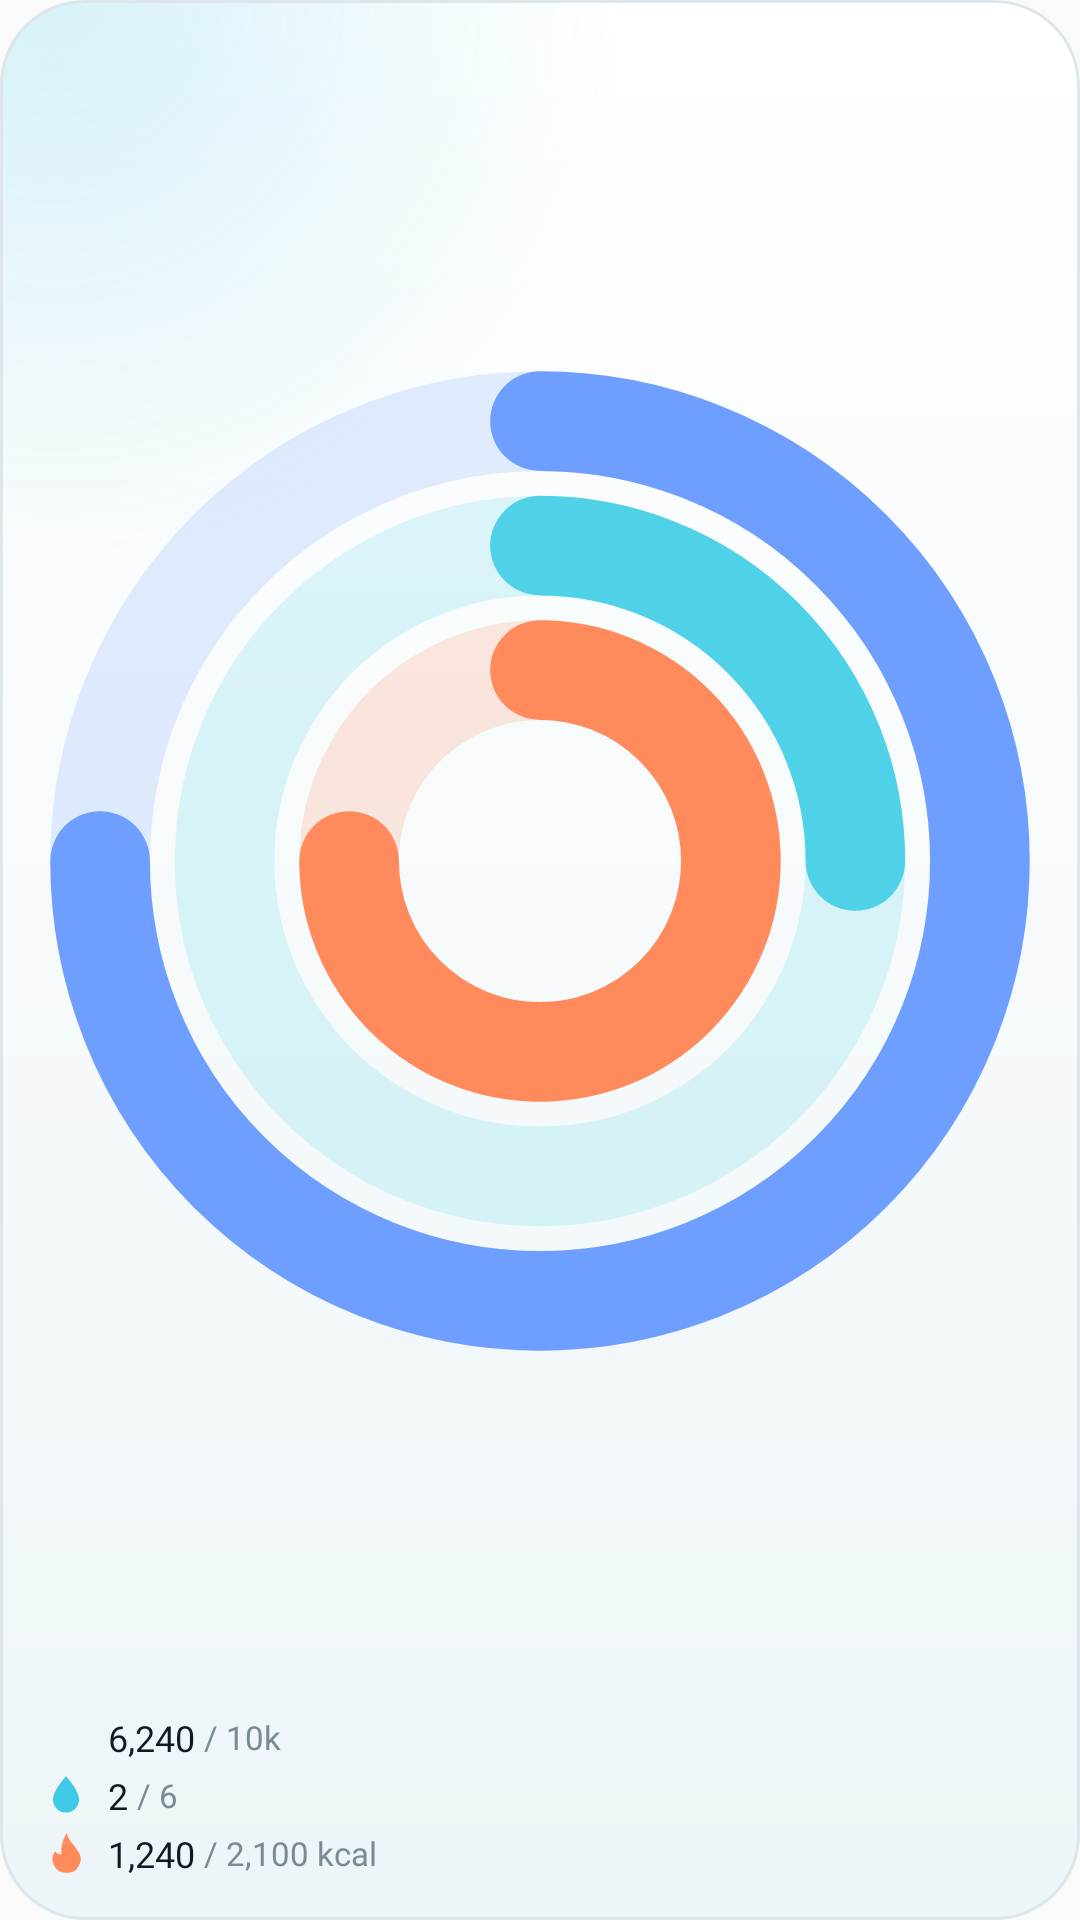

Point at icon controls on the screen. Image size 1080*1920, points as point (x, y).
widget drop: point (66, 1794)
widget flame: point (66, 1853)
